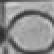no answer: (7, 8, 54, 54)
